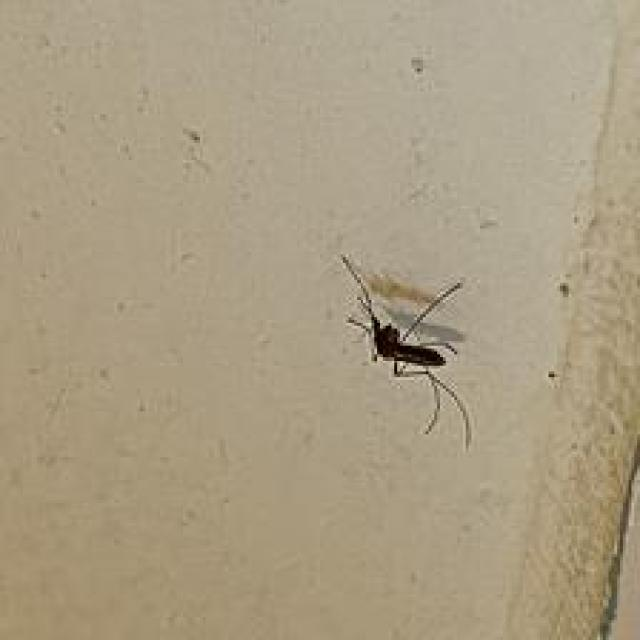Culex: (338, 252, 473, 452)
